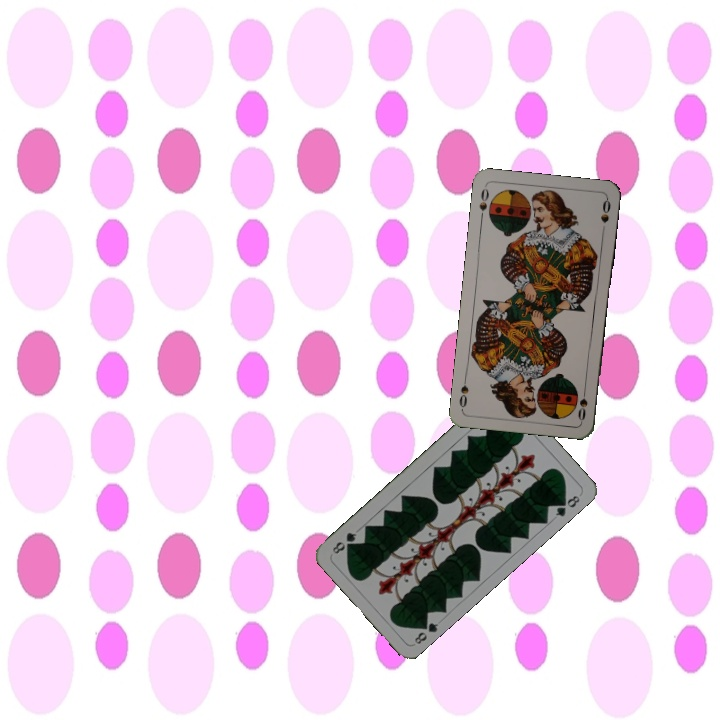G8: (410, 616, 441, 647)
SO: (574, 382, 590, 423), (475, 184, 491, 223)
